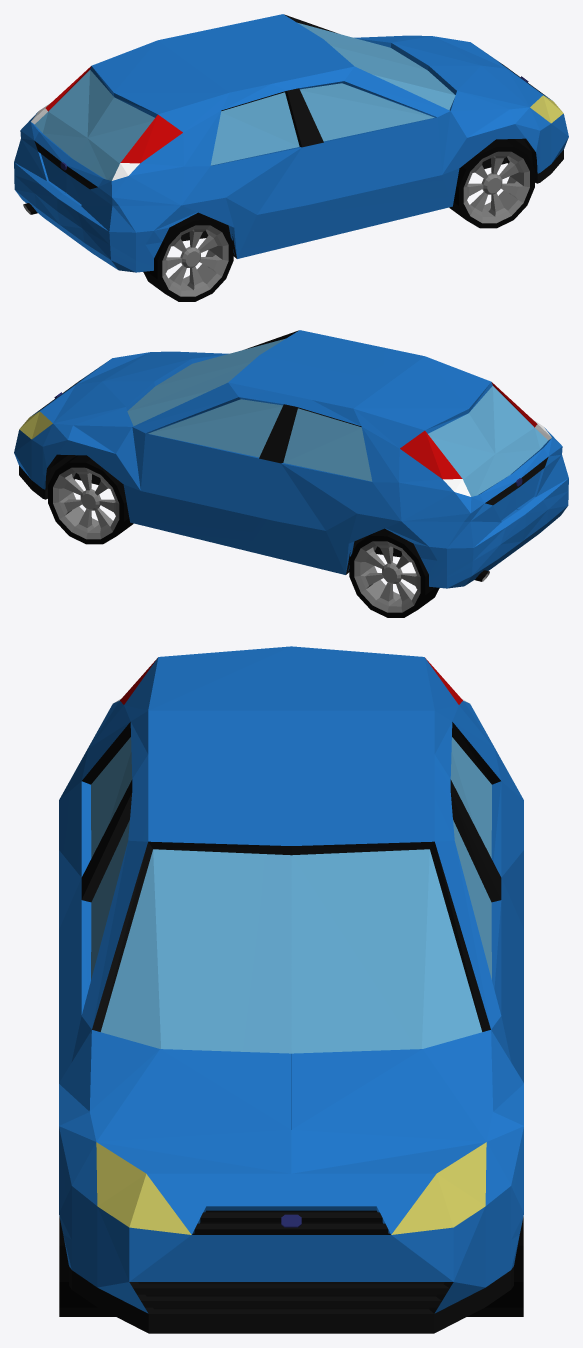
Rendered from car.obj.
3 views of the same model, one above another, from view 1: azimuth 30°, elevation 25°; view 2: azimuth 150°, elevation 25°; view 3: azimuth 270°, elevation 25° (orthographic). The views are drawn at different scales.
Parts seen in each view (by area): view 1: Body_Cube, WheelR_Cylinder.003, WheelFR_Cylinder.001; view 2: Body_Cube, WheelR_Cylinder.003, WheelFL_Cylinder.002; view 3: Body_Cube, WheelFL_Cylinder.002, WheelFR_Cylinder.001.
Part boxes in pixels (left/top/right/bottom): Body_Cube: left=14, top=14, right=568, bottom=272; WheelR_Cylinder.003: left=143, top=212, right=233, bottom=301; WheelFR_Cylinder.001: left=449, top=139, right=534, bottom=228; Body_Cube: left=14, top=330, right=568, bottom=588; WheelR_Cylinder.003: left=349, top=528, right=439, bottom=617; WheelFL_Cylinder.002: left=48, top=455, right=133, bottom=544; Body_Cube: left=59, top=646, right=523, bottom=1333; WheelFL_Cylinder.002: left=467, top=1217, right=523, bottom=1316; WheelFR_Cylinder.001: left=59, top=1217, right=115, bottom=1316.
Bounding box in the file's own units: 4.29 × 1.56 × 1.83.
